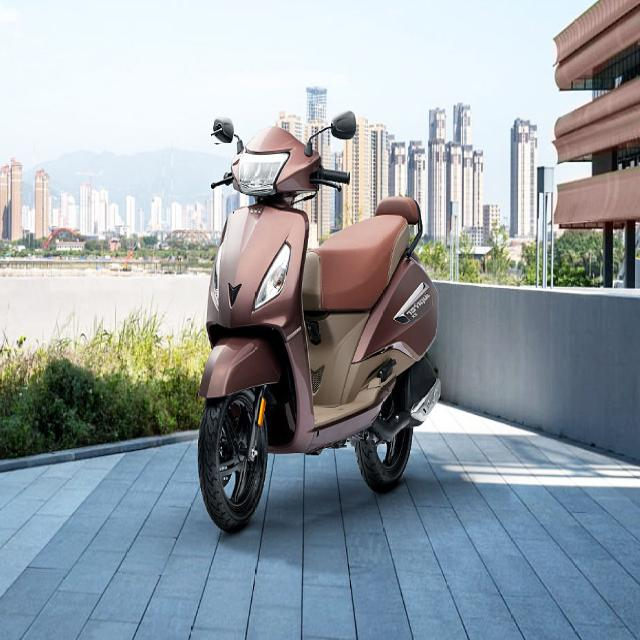motorcycle: (199, 128, 440, 532), (318, 111, 356, 140), (211, 118, 234, 143)
